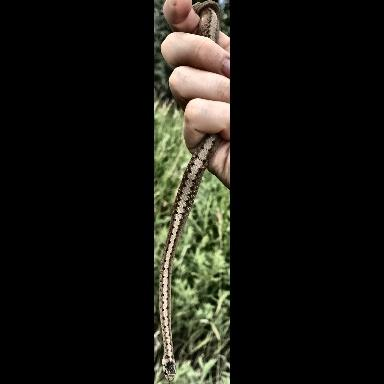snake: (155, 135, 215, 384)
